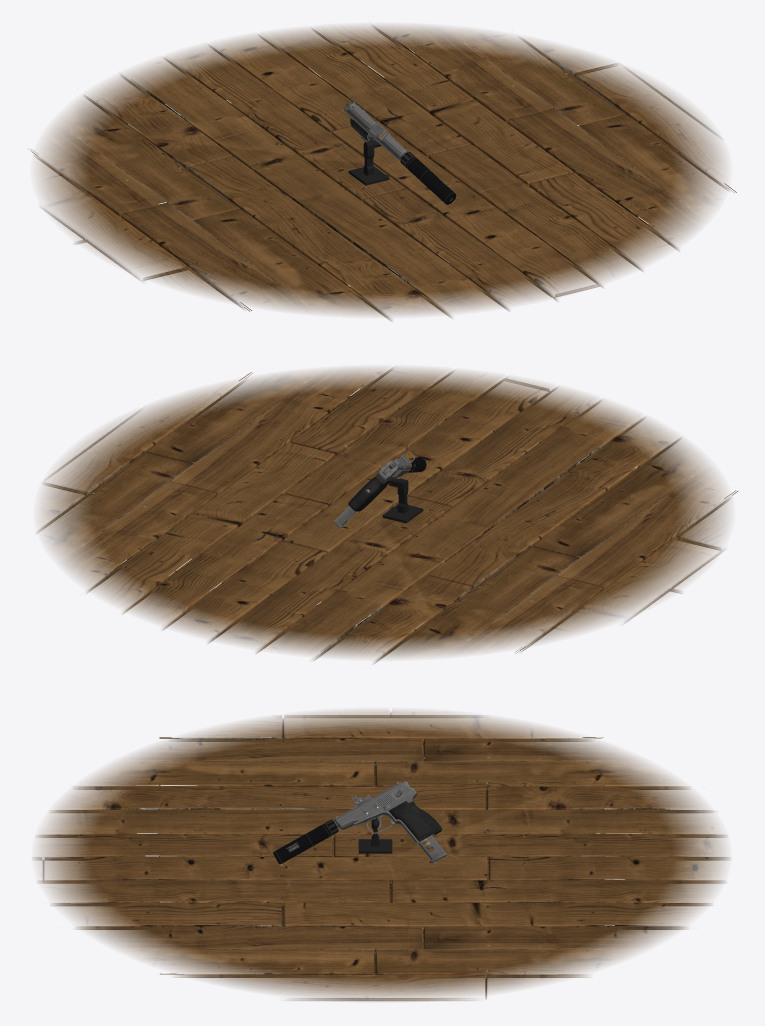
File: makarov-pm.glb
3 renders of one model, top to bottom at view 1: azimuth 30°, elevation 25°; view 2: azimuth 150°, elevation 25°; view 3: azimuth 270°, elevation 25°, orthographic.
Parts seen in each view (by area): view 1: Floor_13, Makarov_suppressor_10, Makarov_slide_9, Stand_14; view 2: Floor_13, Stand_14, Makarov_base_12; view 3: Floor_13, Makarov_base_12, Makarov_slide_9, Makarov_suppressor_10, Stand_14.
Part boxes in pixels (x1,y1,x2,y2): Floor_13: (28,24,736,321); Makarov_suppressor_10: (400,152,456,204); Makarov_slide_9: (344,102,407,160); Stand_14: (348,140,389,185); Floor_13: (37,367,737,663); Stand_14: (382,478,423,523); Makarov_base_12: (348,463,405,511); Floor_13: (33,710,730,1001); Makarov_base_12: (334,790,442,844); Makarov_slide_9: (335,782,414,830); Makarov_suppressor_10: (273,819,338,864); Stand_14: (358,818,392,853).
Bounding box in the file's own units: 1.36 × 0.138 × 1.36.
4 materials, 3 textured.
